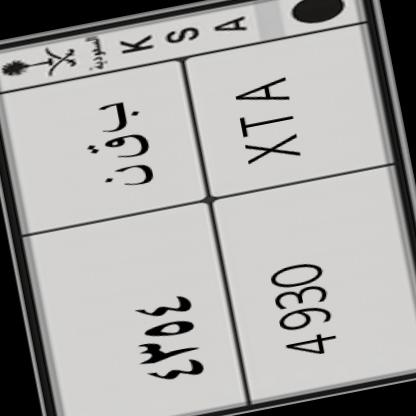english: (159, 12, 416, 410)
